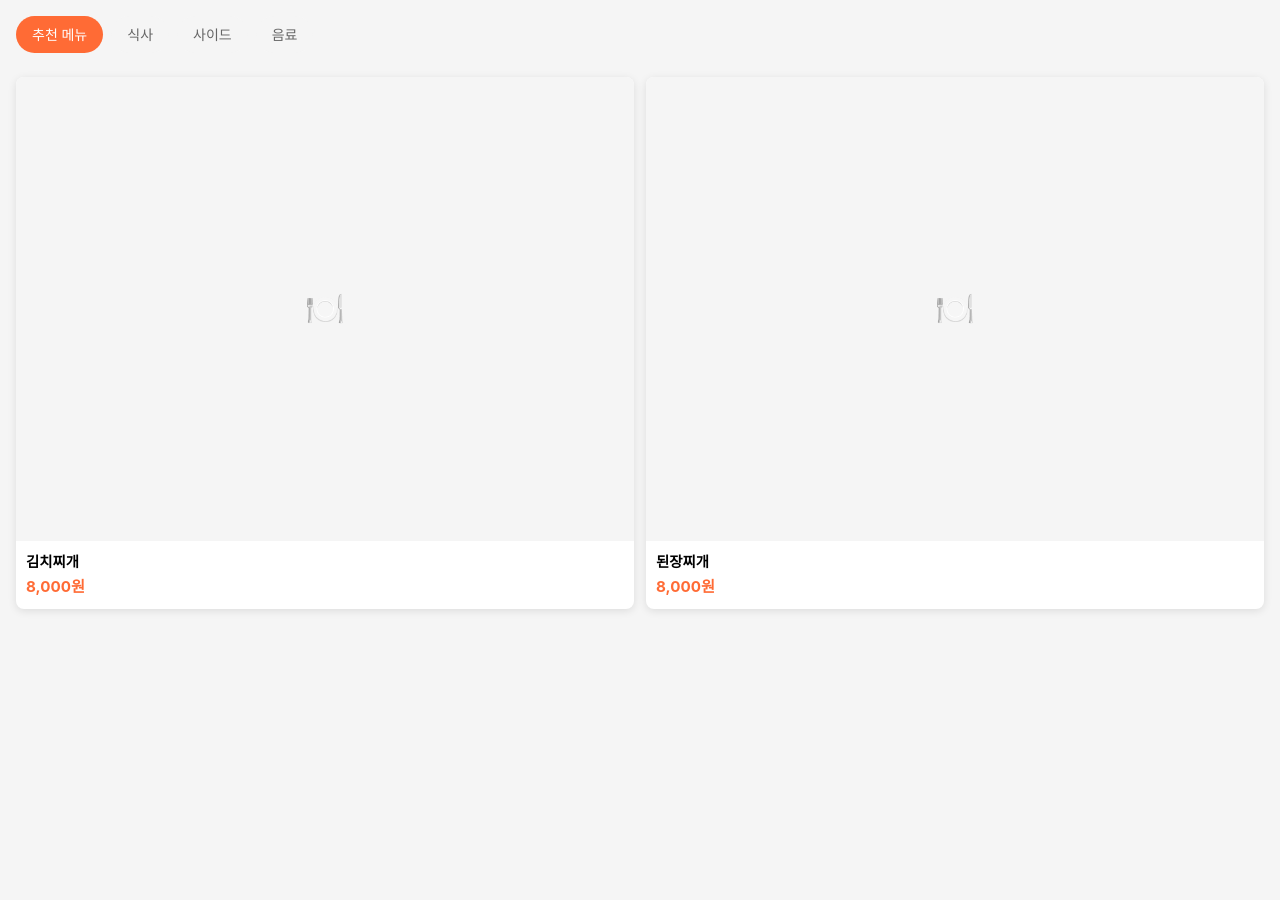
Scenario: US-202: MenuPage — 메뉴 상세 모달 › 모달에서 수량 조절이 가능하다
Check: the text "김치찌개" is shown, box [26, 552, 79, 570]
Click the button labelled "🍽️ 김치찌개 8,000원" at (325, 343), box [16, 77, 634, 609]
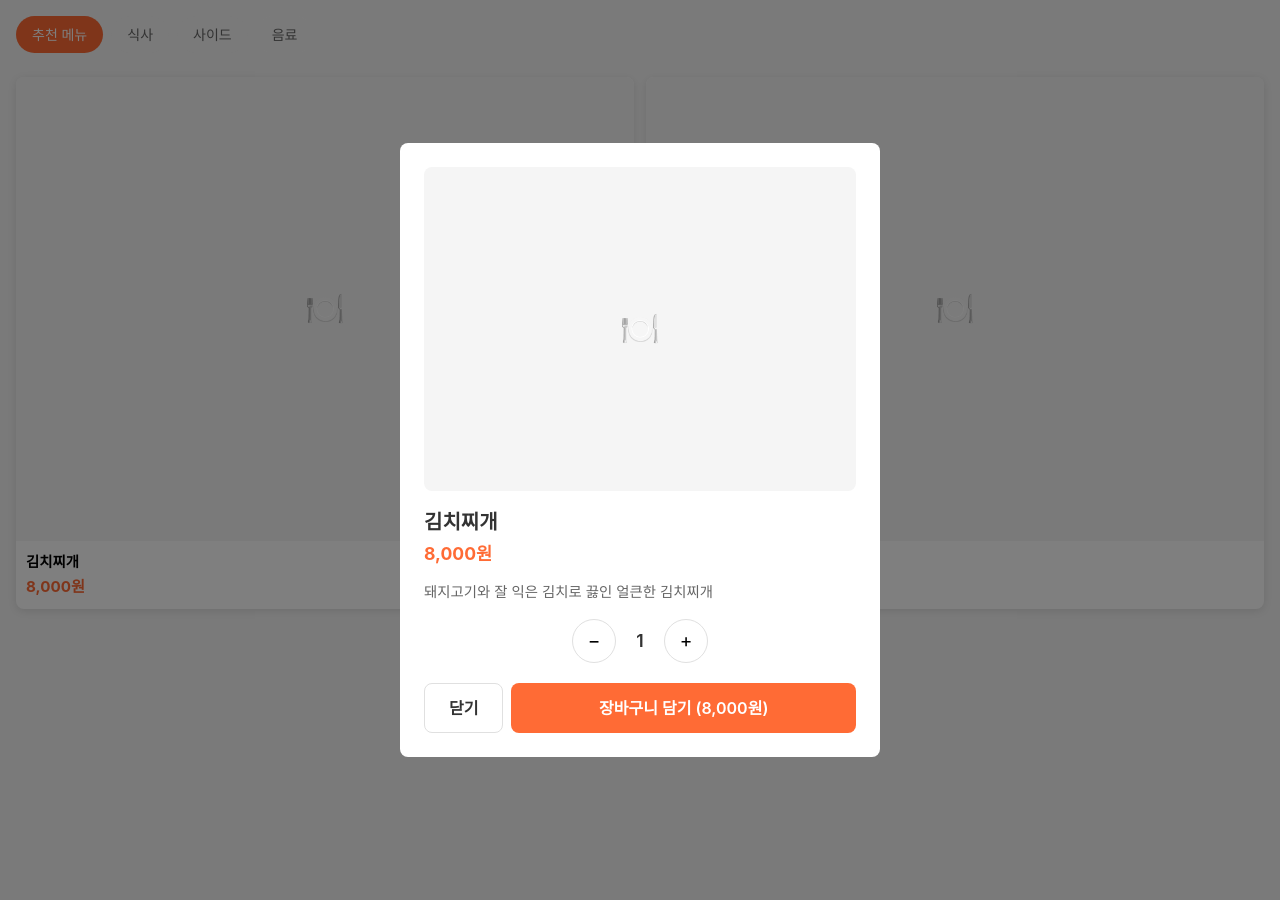
Check: the dialog is shown
Click the button named "수량 증가" at (686, 641), box [664, 619, 708, 663]
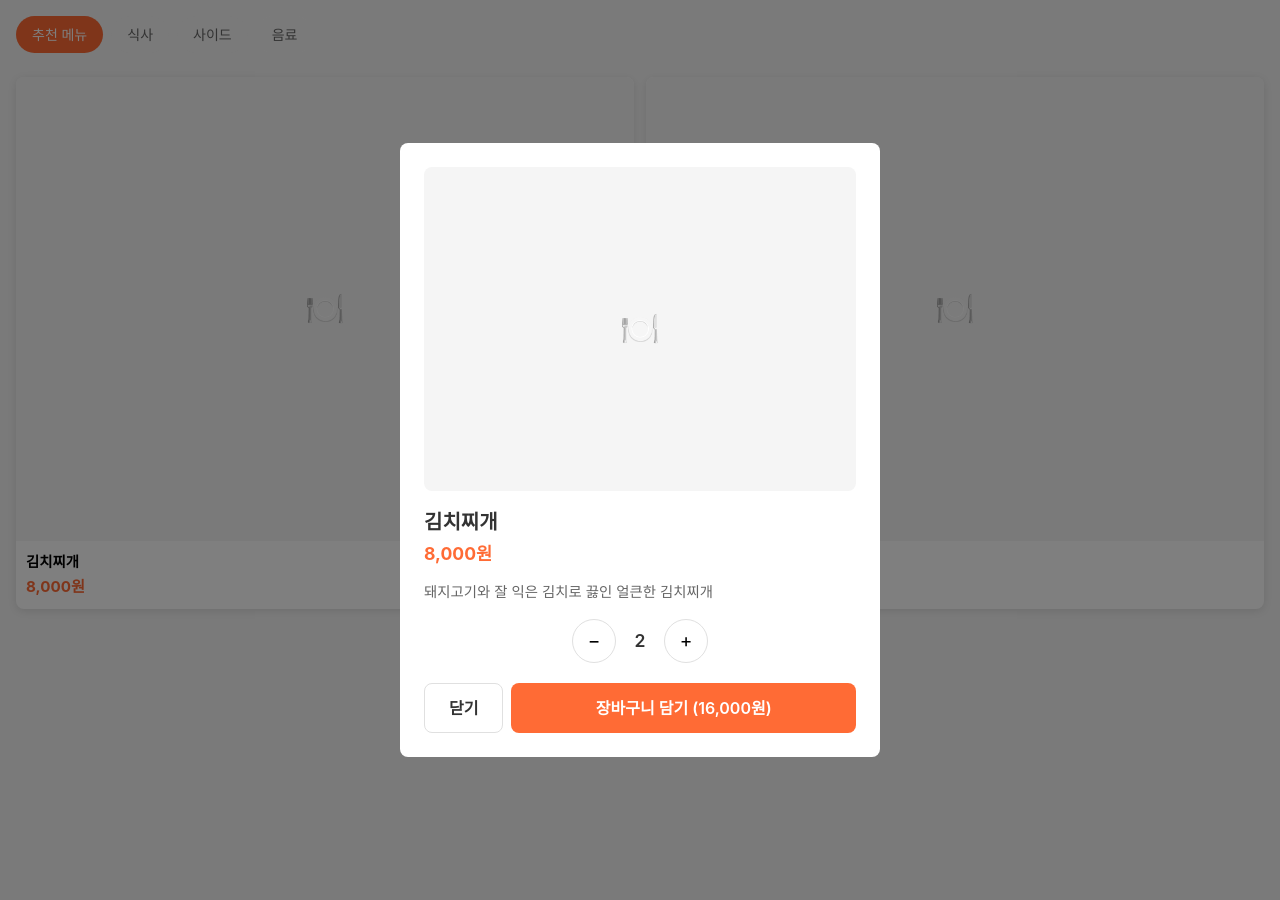
Check: the text "2" is shown, box [634, 630, 646, 650]
Check: the button "장바구니 담기 (16,000원)" is shown, box [512, 683, 856, 733]
